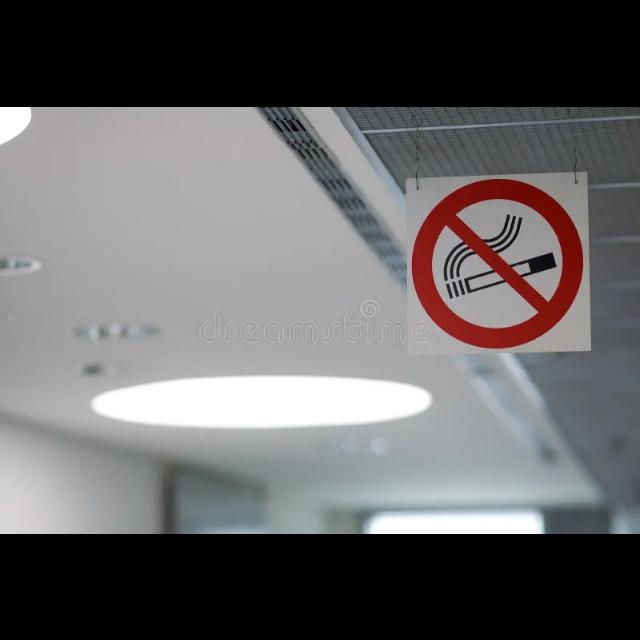cam hut thuoc: (404, 172, 590, 353)
